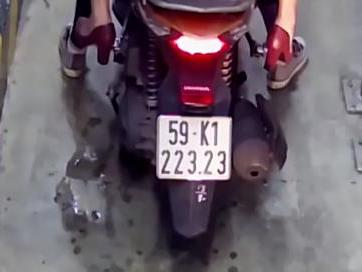num_plate: (154, 112, 235, 184)
